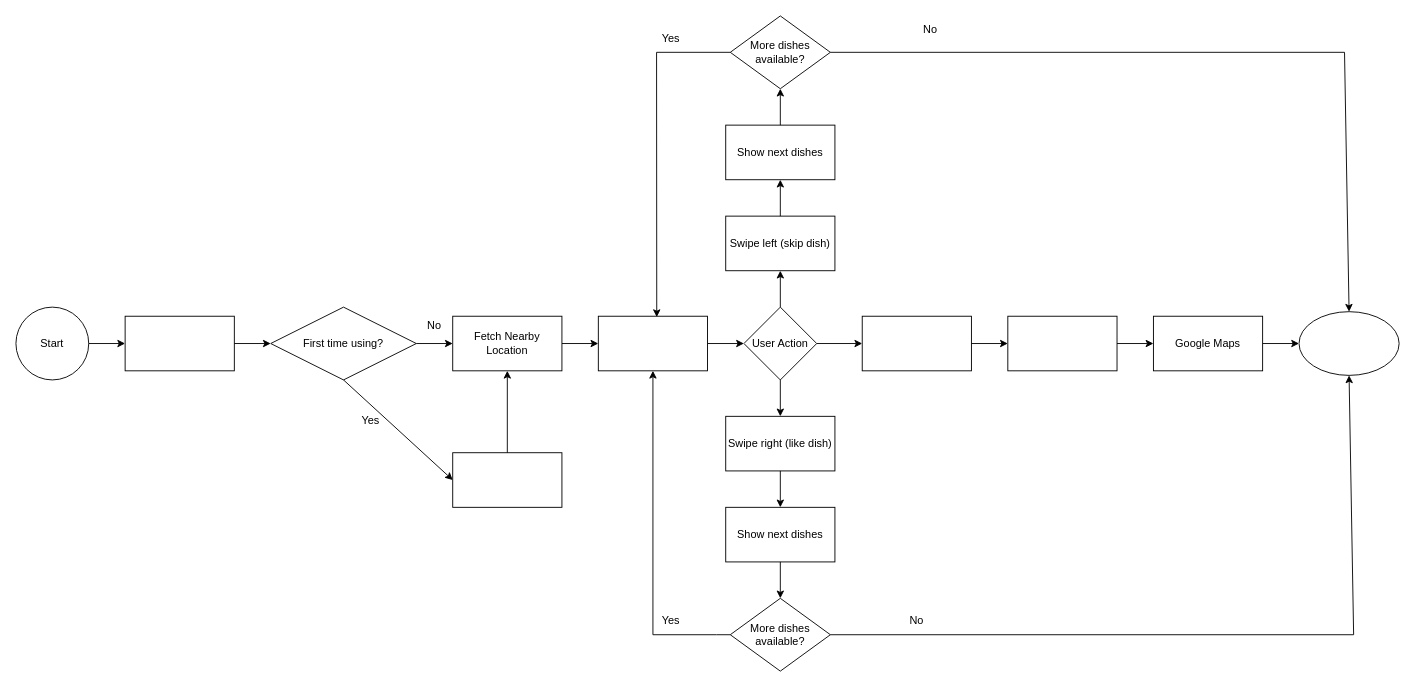
Image size: 1415x687. Some labels were removed from this diagram. The centre of each missing label's shape, as x and y in pixels:
"Display swipe screen" belongs at point (652, 343).
"End" belongs at point (1348, 343).
"Navigate" belongs at point (916, 343).
"Open App" belongs at point (179, 343).
"Request permission" belongs at point (507, 479).
"Restaurant detail" belongs at point (1062, 343).
